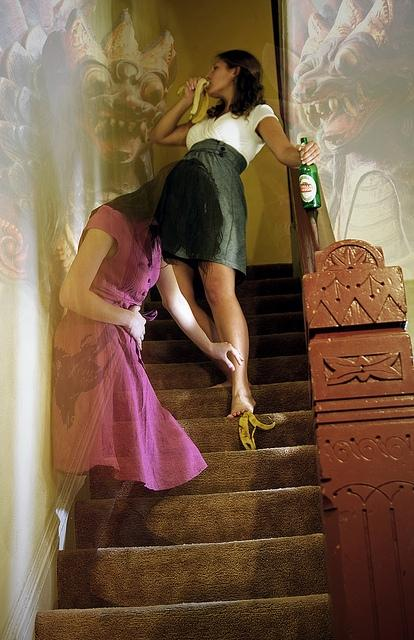banana: (177, 78, 210, 124), (238, 411, 274, 450)
